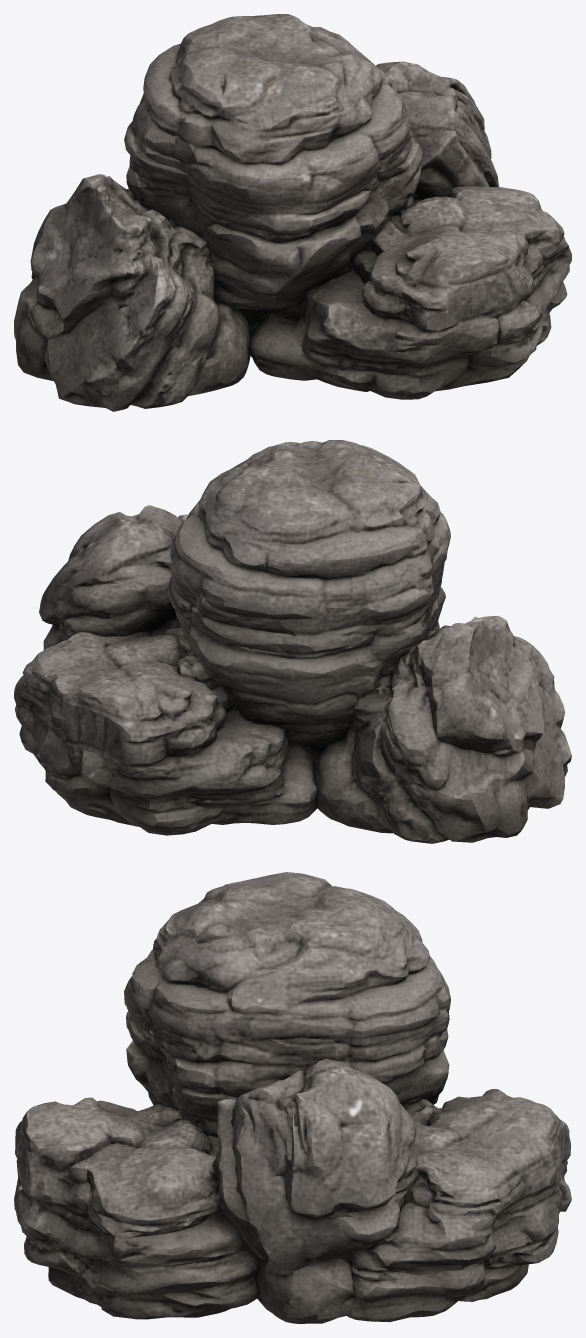
The picture shows the model from 3 angles, top to bottom: view 1: azimuth 30°, elevation 25°; view 2: azimuth 150°, elevation 25°; view 3: azimuth 270°, elevation 25°; orthographic projection. The views are drawn at different scales.
Parts seen in each view (by area): view 1: world; view 2: world; view 3: world.
Boxes of the visible parts, left/top/right/bottom form: world: left=14, top=14, right=571, bottom=411; world: left=14, top=440, right=571, bottom=843; world: left=14, top=872, right=571, bottom=1323.
Size of the model in its own units: 1 by 0.6269 by 0.9778.
1 material, 1 textured.
